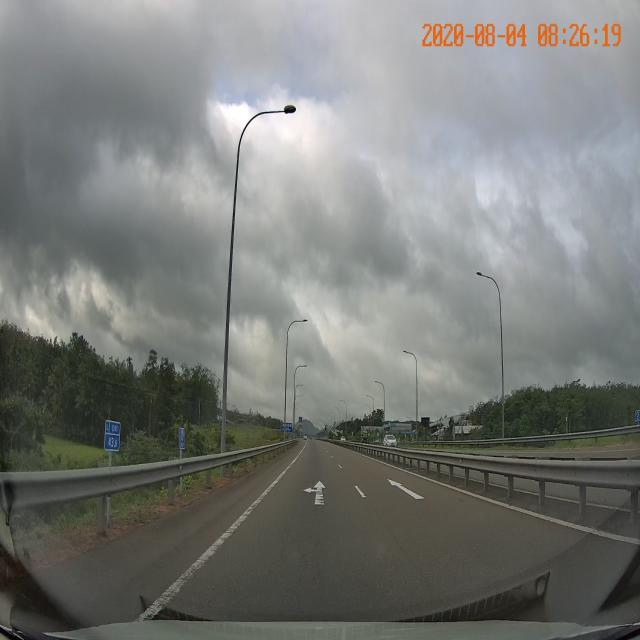Strelka vpered: (386, 477, 427, 500)
Strelka vpered - vlevo: (301, 480, 327, 505)
